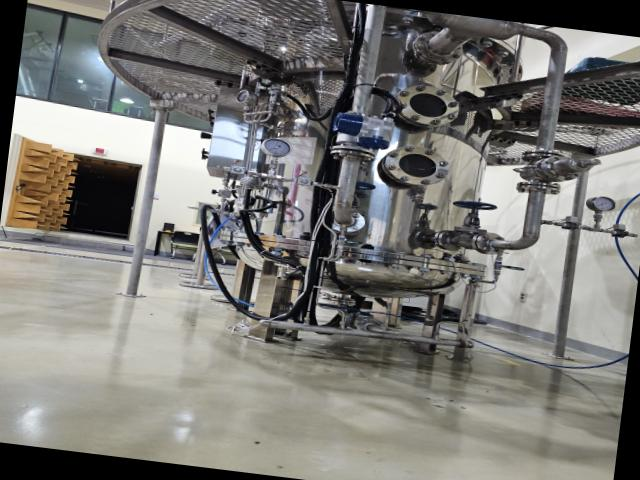Flange: (387, 81, 461, 131), (380, 142, 450, 190)
Flush Ring: (408, 29, 464, 68), (323, 206, 368, 236), (519, 148, 573, 168), (469, 230, 508, 257), (328, 142, 374, 162), (432, 228, 468, 253), (516, 178, 560, 196), (354, 316, 385, 336)
GasRegulator: (233, 84, 304, 136)
Nuts: (600, 226, 640, 240), (288, 175, 319, 188), (554, 220, 587, 232), (225, 164, 253, 177)
Piston Valve: (449, 199, 499, 235), (329, 178, 376, 215)
Pressure Gage: (256, 136, 292, 176), (582, 194, 616, 230)
